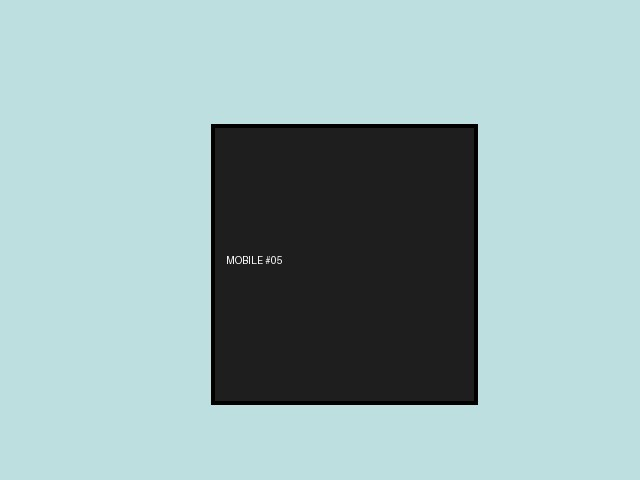mobile_phone: (211, 124, 477, 404)
